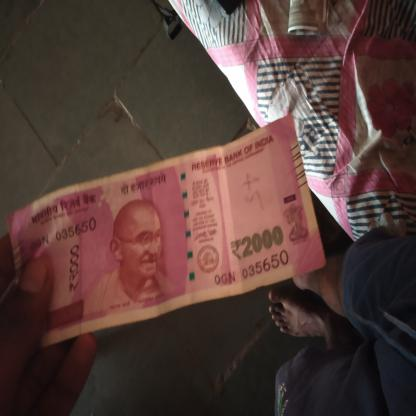New2000Front: (12, 118, 313, 342)
